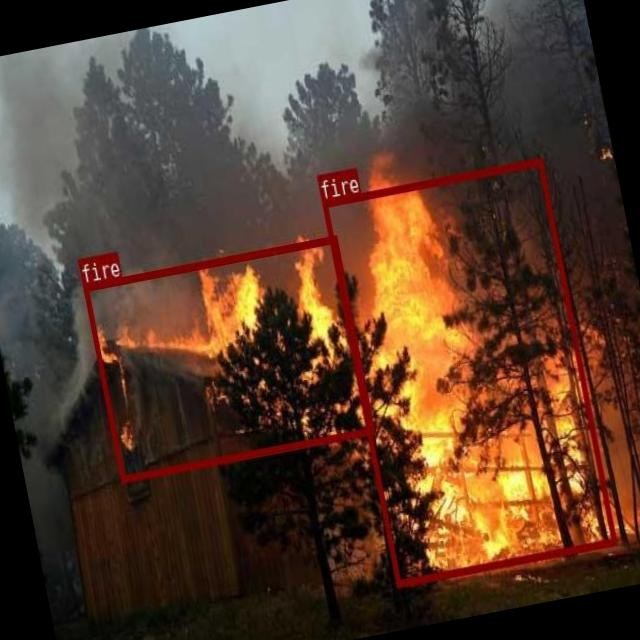fire: (321, 158, 616, 586), (82, 234, 374, 482)
